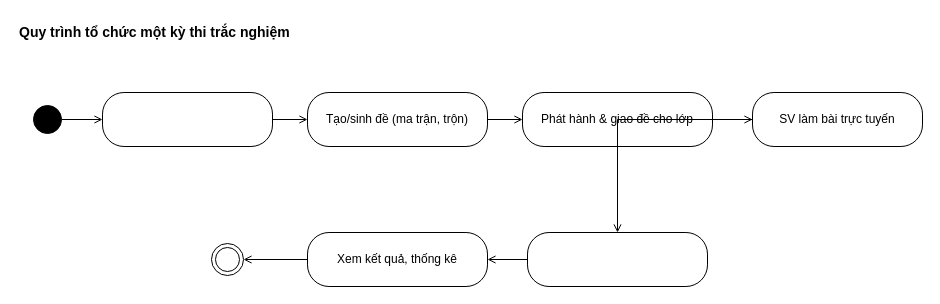
The diagram is 940 pixels wide and 304 high, and some of its shapes have lost their labels. The box of each missing label's shape, as (x1, y1, x2, y2) in pixels:
Chấm điểm tự động: (526, 232, 708, 286)
Soạn ngân hàng câu hỏi: (102, 92, 272, 146)
